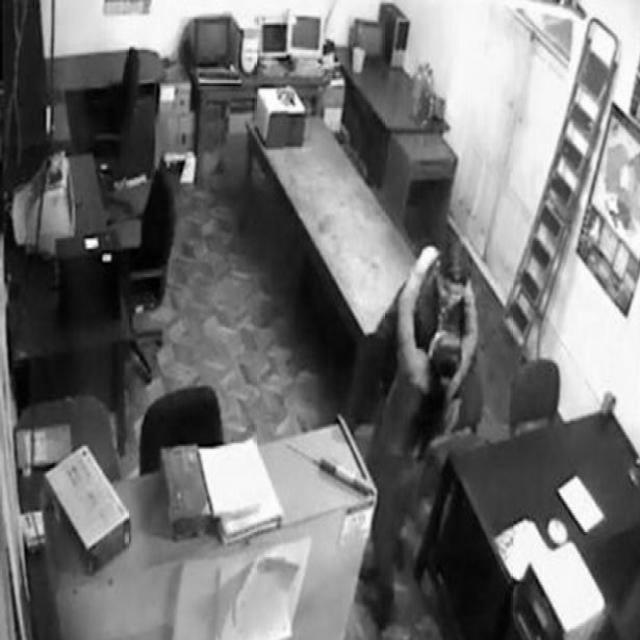table: (28, 422, 392, 608), (245, 94, 424, 354), (443, 410, 640, 582)
